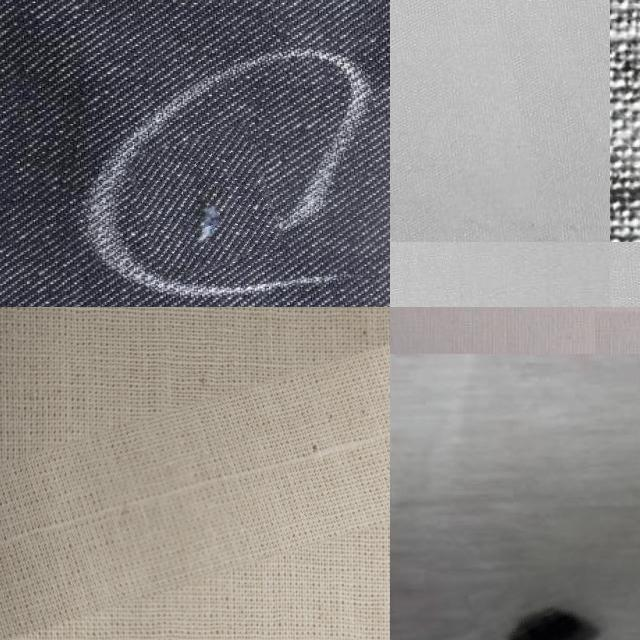Hole: (471, 567, 606, 640)
Thread_other: (0, 374, 390, 634), (132, 130, 276, 276)
